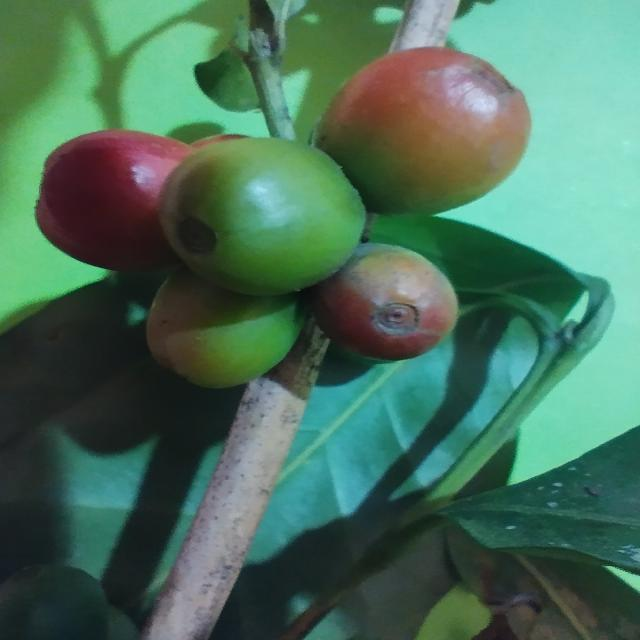Sano: (312, 46, 533, 218), (157, 137, 371, 300), (33, 130, 200, 275), (146, 264, 307, 390), (304, 246, 459, 362)
